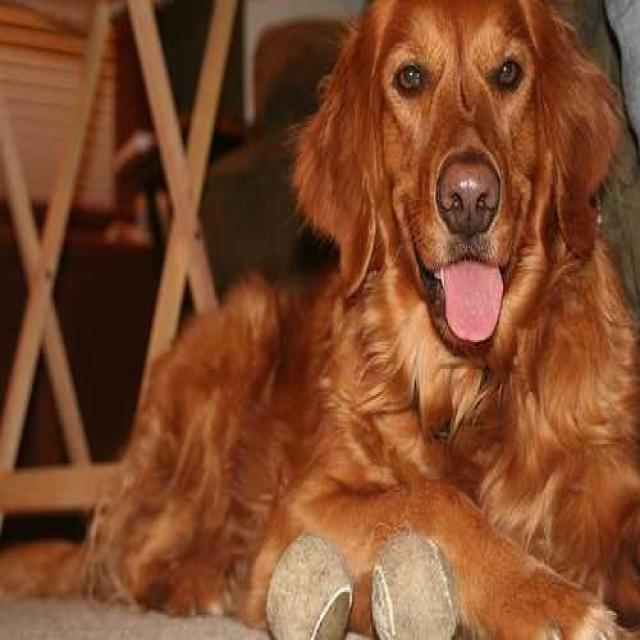Tennis_Ball: (368, 535, 455, 637), (273, 539, 354, 640)
